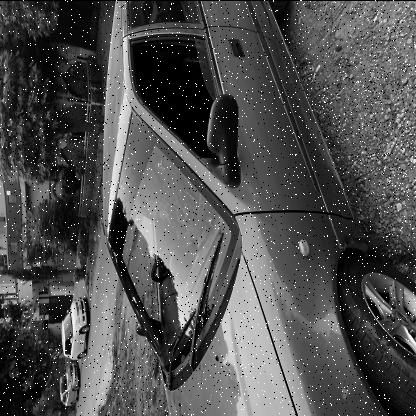no_seatbelt: (141, 168, 190, 216)
